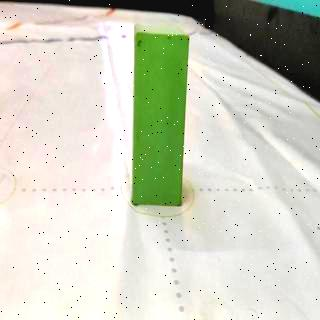greenbox: (133, 20, 190, 206)
